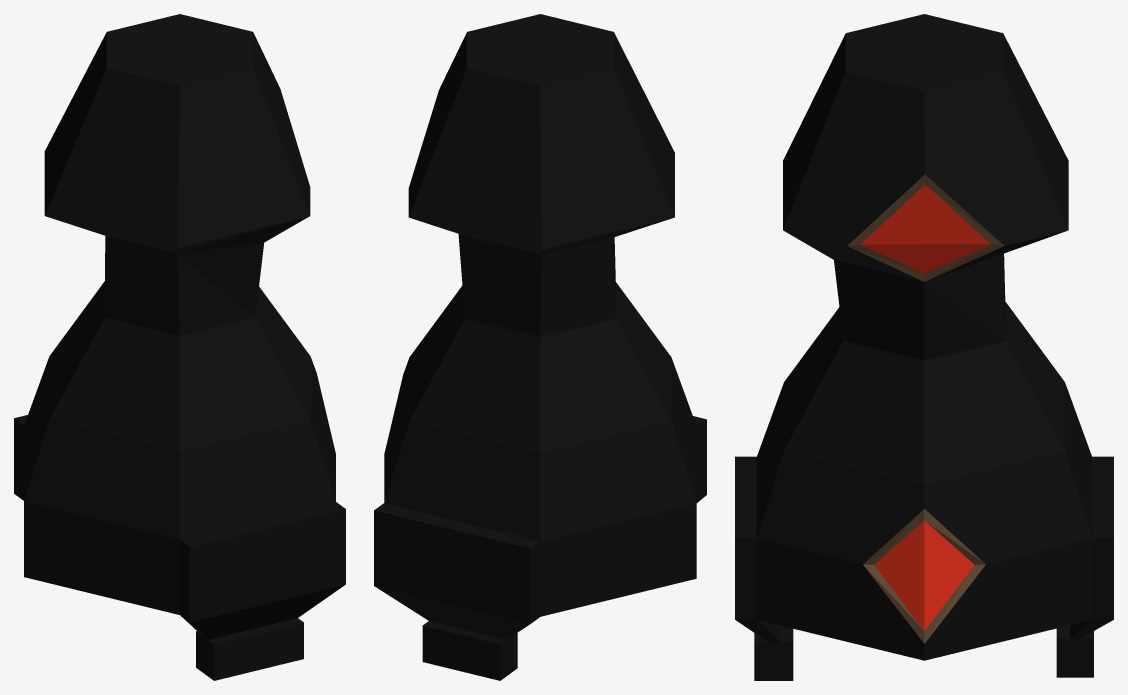
The model's file is Block_Turret.FBX.
3 views of the same model, side by side, from view 1: azimuth 30°, elevation 25°; view 2: azimuth 150°, elevation 25°; view 3: azimuth 270°, elevation 25° (orthographic). The views are drawn at different scales.
Parts seen in each view (by area): view 1: Body, Head; view 2: Body, Head; view 3: Body, Head.
Boxes of the visible parts, <box> form: Body: <box>14,281,345,680</box>; Head: <box>44,14,310,335</box>; Body: <box>374,282,706,680</box>; Head: <box>408,14,674,336</box>; Body: <box>735,302,1113,680</box>; Head: <box>783,14,1068,360</box>.
Bounding box in the file's own units: 89.44 × 154 × 87.46.
